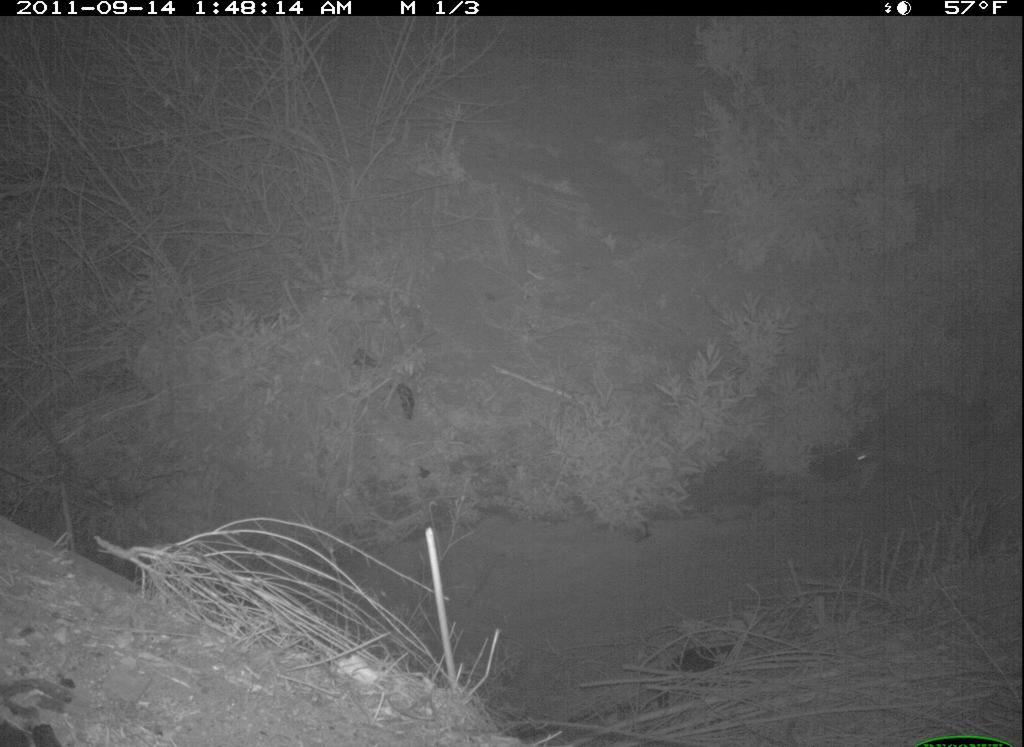raccoon: (841, 365, 1010, 515)
